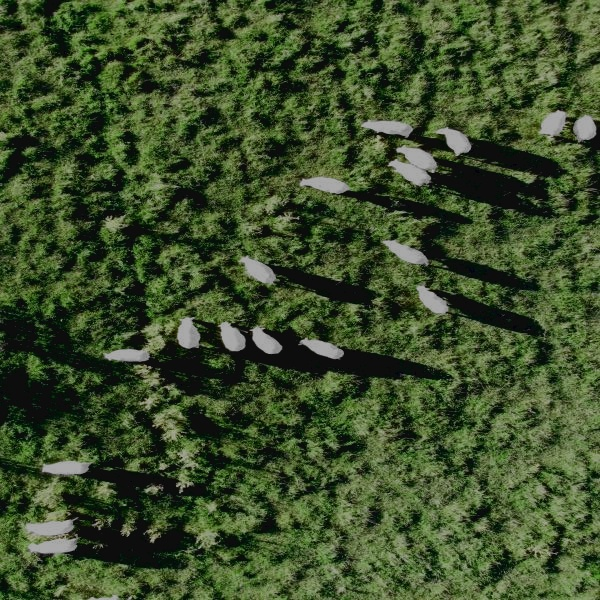sheep: (377, 236, 443, 273), (383, 155, 437, 190), (292, 333, 352, 363), (411, 283, 460, 319), (235, 252, 282, 289), (392, 141, 443, 174), (296, 172, 356, 199), (434, 124, 479, 159), (24, 533, 86, 558), (20, 516, 84, 539), (357, 118, 418, 142), (169, 315, 206, 353), (38, 457, 97, 479), (535, 107, 571, 141), (248, 325, 287, 356), (213, 321, 249, 354), (101, 346, 155, 367), (571, 111, 599, 146)
